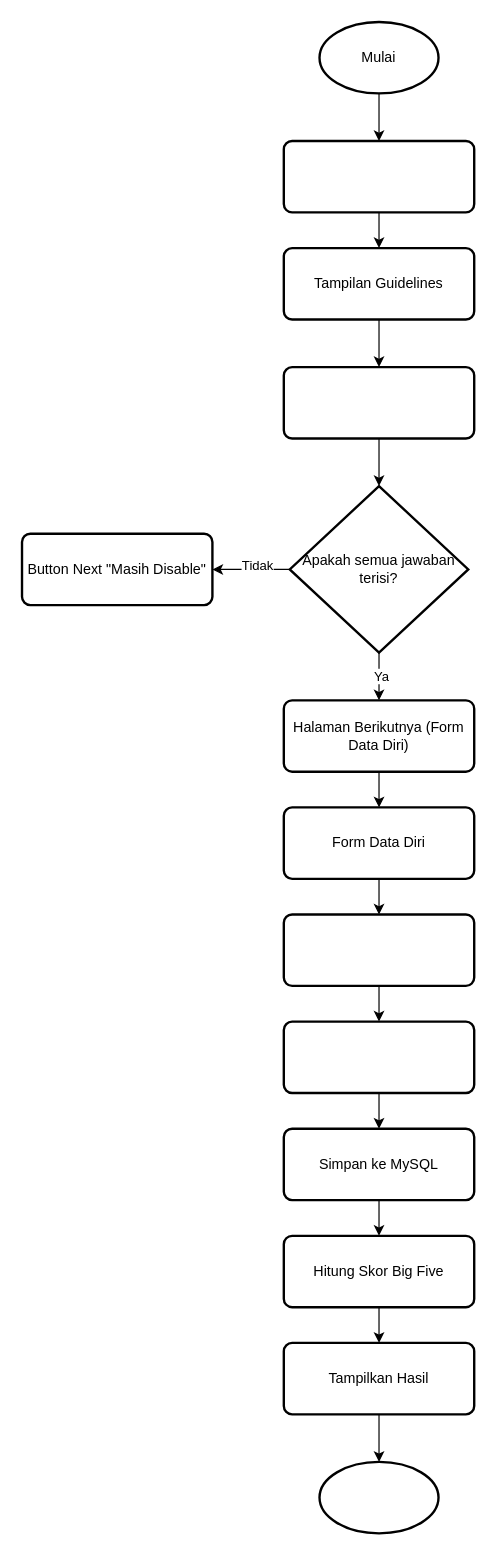
Image size: 495x1554. Some labels were removed from this diagram. Each missing label, with the centre of its shape:
Hitung Usia: pixel 378 950
Selesai: pixel 378 1497
Submit Form: pixel 378 1057
Tampilan Home Screen: pixel 378 176
Tampilan Kuis: pixel 378 402
